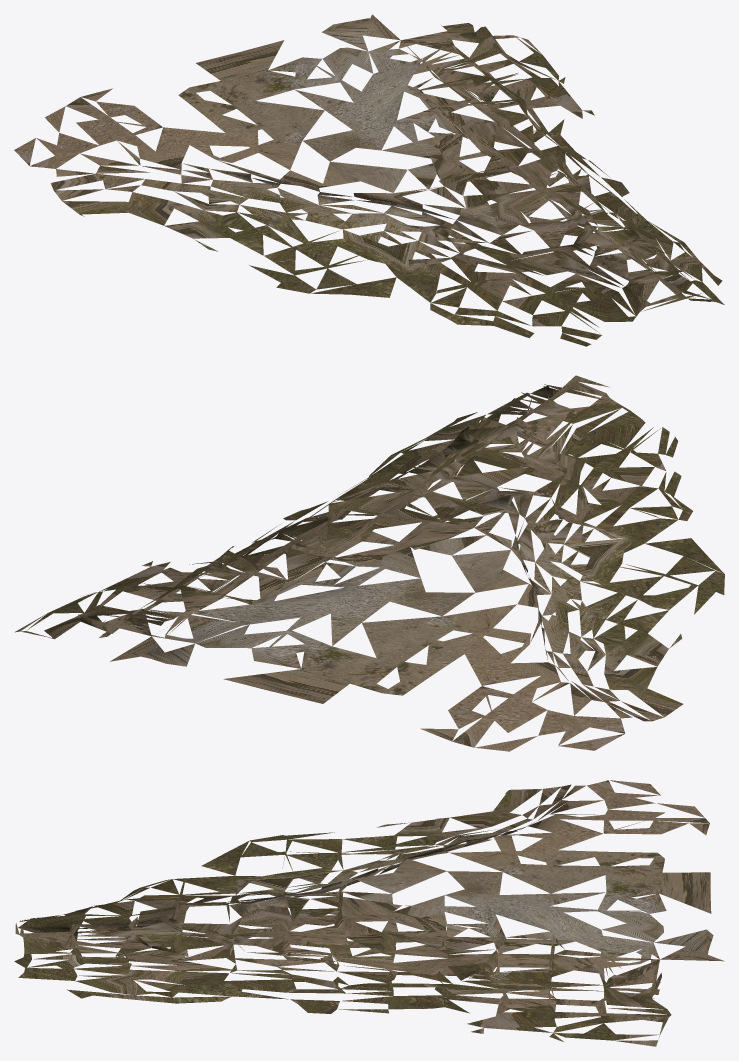
The model's file is coast_rocks_02.glb.
3 views of the same model, one above another, from view 1: azimuth 30°, elevation 25°; view 2: azimuth 150°, elevation 25°; view 3: azimuth 270°, elevation 25° (orthographic). The views are drawn at different scales.
Visible parts, largest first — view 1: coast_rocks_02; view 2: coast_rocks_02; view 3: coast_rocks_02.
Boxes of the visible parts, <box> form: coast_rocks_02: <box>14,14,724,346</box>; coast_rocks_02: <box>15,375,724,751</box>; coast_rocks_02: <box>14,780,724,1046</box>.
Size of the model in its own units: 30.42 by 2.65 by 36.73.
Materials: 1 (1 with a texture image).
